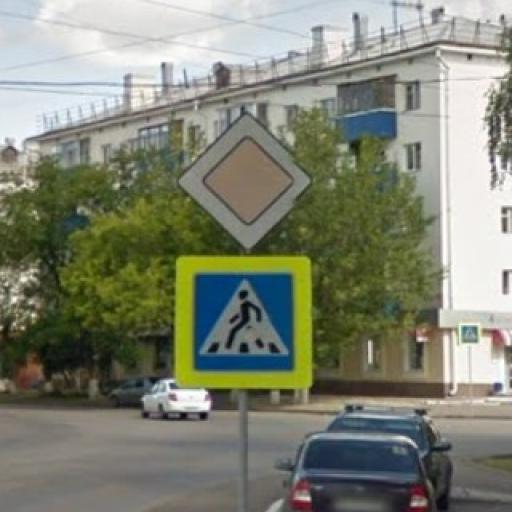traffic_sign: (176, 109, 315, 256), (175, 258, 313, 391)
